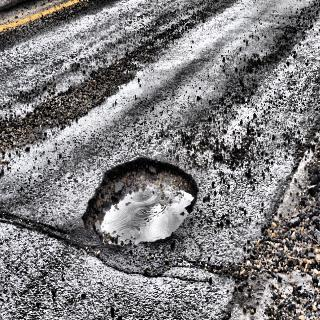pothole: (82, 151, 202, 249)
